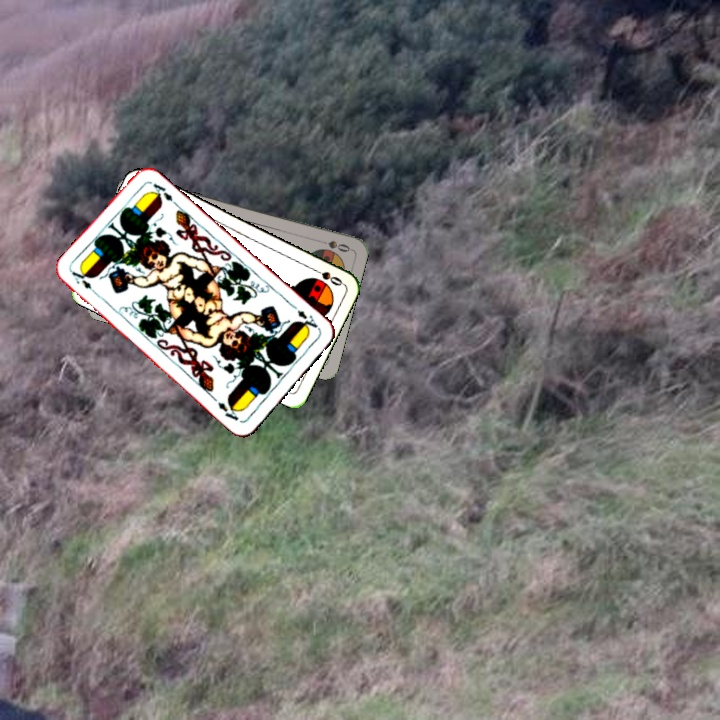EA: (67, 267, 101, 298), (293, 306, 322, 333)
SO: (307, 263, 345, 288), (313, 235, 353, 255)
